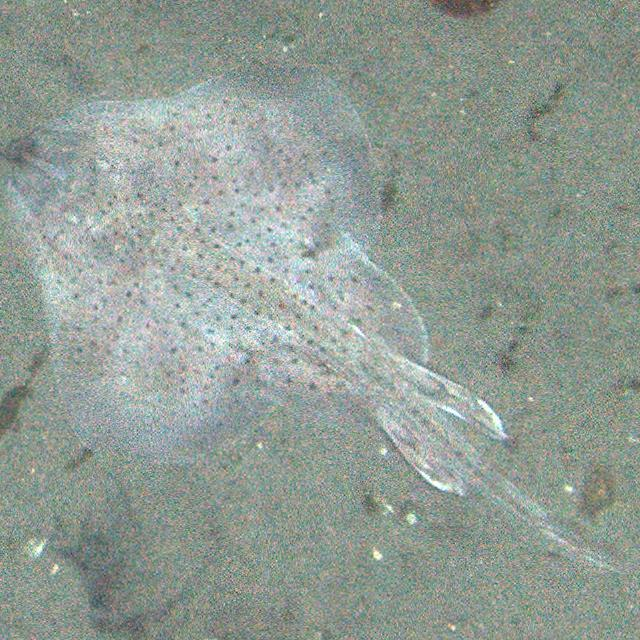skate: (3, 74, 623, 575)
